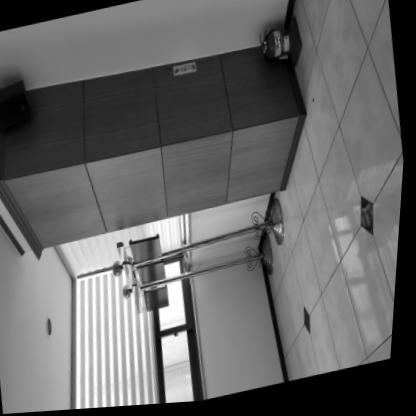FE: (257, 20, 308, 70)
